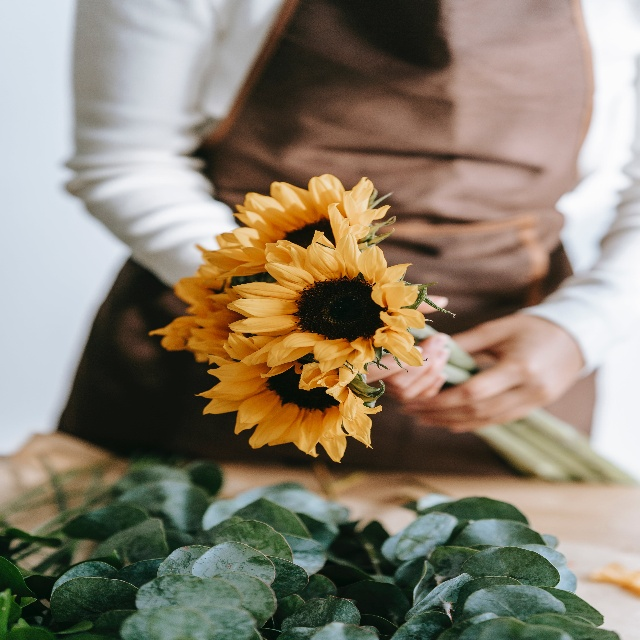Sin_guantes: (396, 310, 586, 435), (362, 330, 450, 405)
